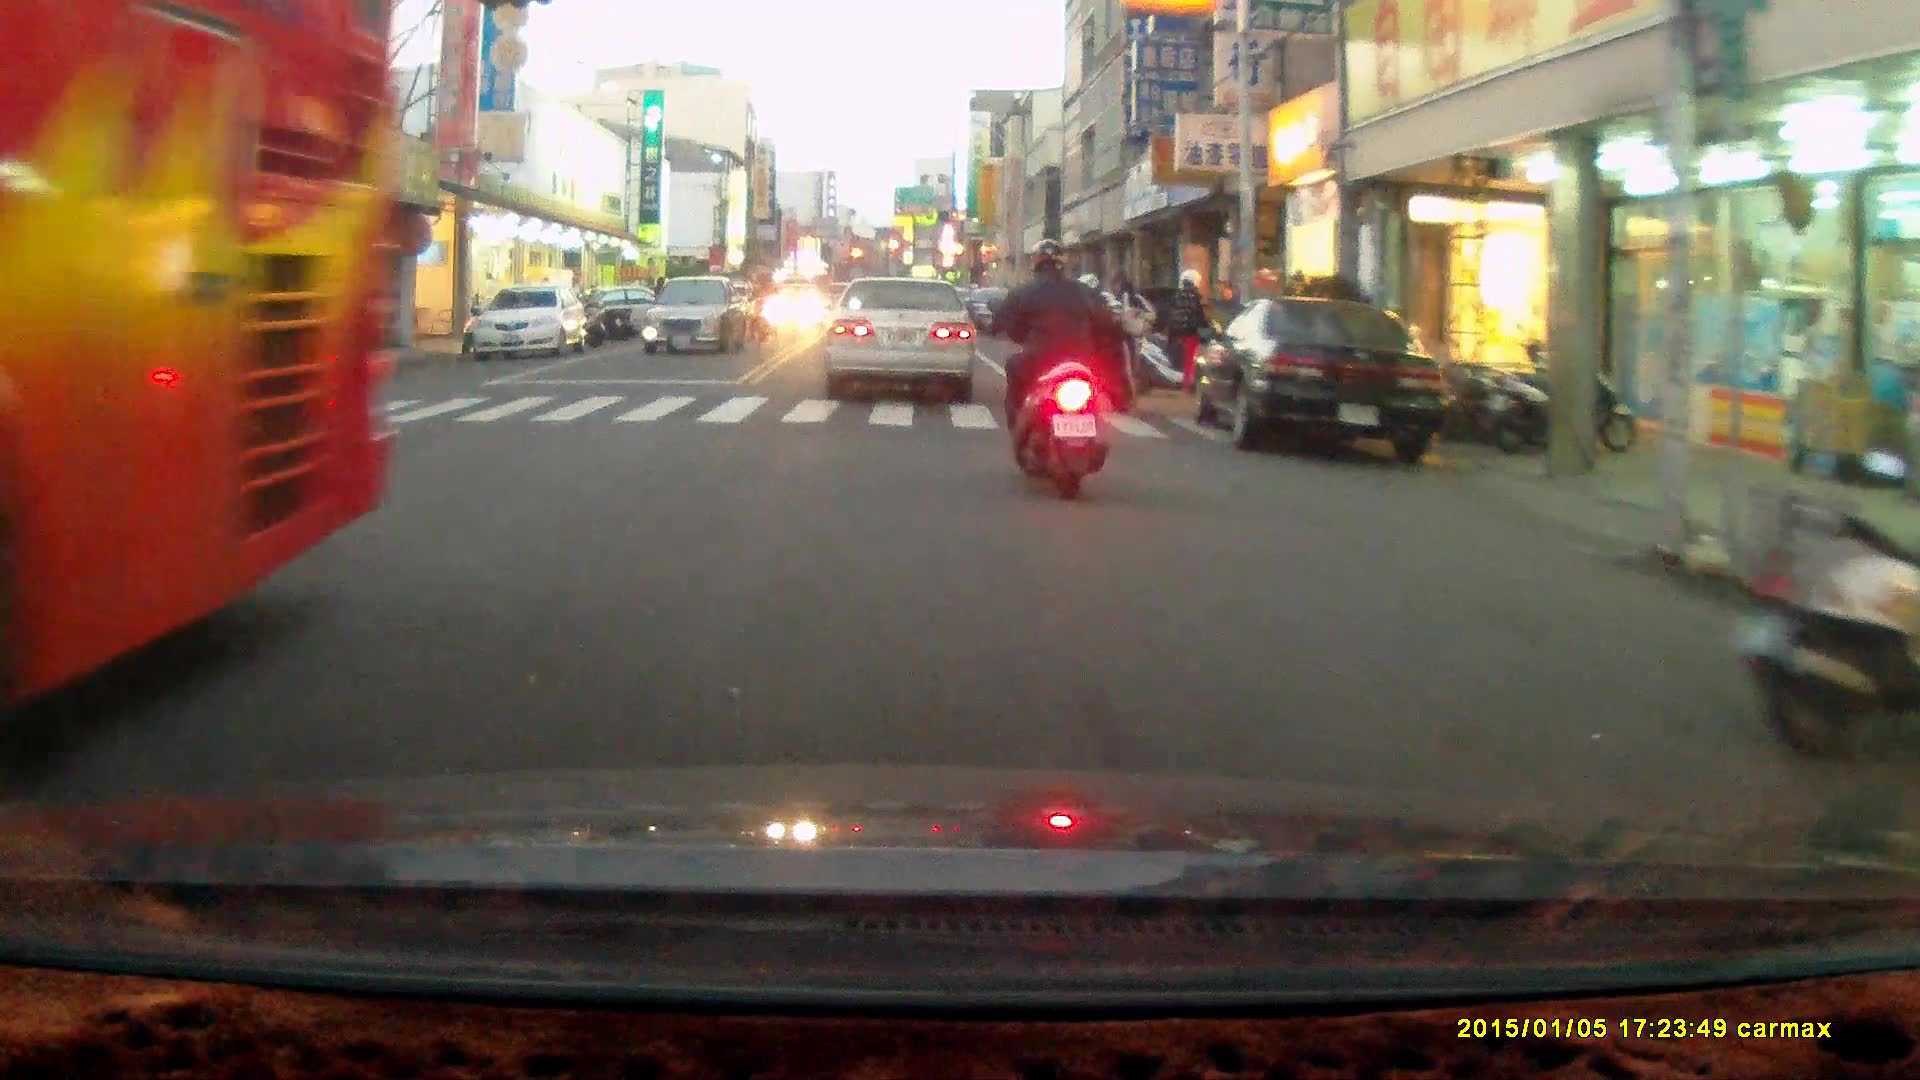pedestrian: (1172, 267, 1212, 401)
rider: (988, 239, 1114, 504)
vehicle: (1, 16, 411, 724), (1191, 302, 1460, 465), (829, 276, 988, 407), (468, 288, 585, 365), (647, 279, 750, 356)
